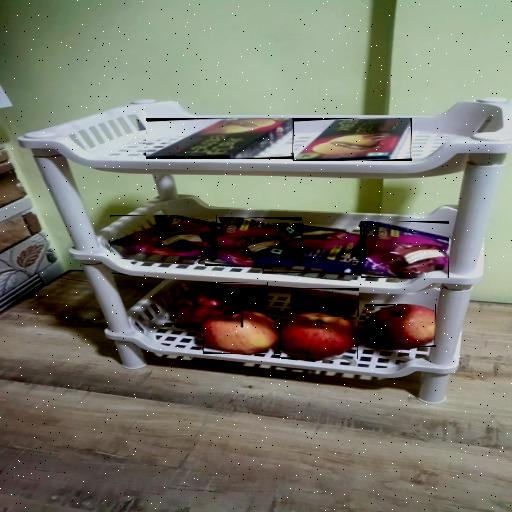Apple: (280, 312, 358, 359), (203, 311, 279, 354), (367, 304, 435, 347), (174, 288, 243, 327), (291, 289, 358, 317), (207, 284, 267, 305)
Choco Fills: (146, 118, 293, 158), (294, 118, 411, 161)
Choco Pie: (361, 221, 449, 278), (205, 217, 302, 266), (111, 215, 216, 258), (263, 227, 360, 273)
